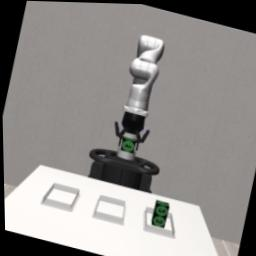cube1: (119, 135, 136, 153)
cube2: (151, 198, 170, 216)
cube3: (148, 213, 165, 227)
